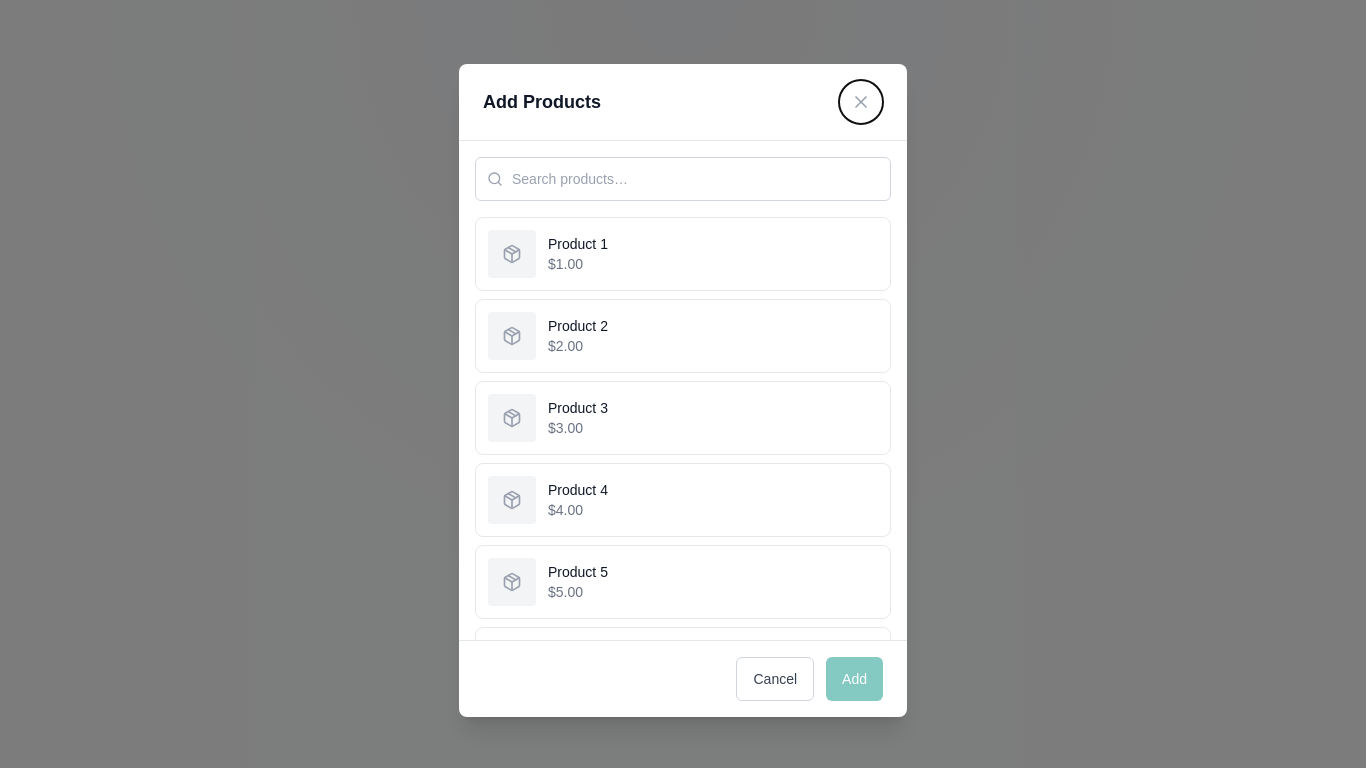
AddProductToGroupModal › should keep selections sticky even when filtered out by search
This screenshot has width=1366, height=768.
Select Product 1 (on the first page).
Step 1. Click the text "Product 1" → (578, 244), box left=548, top=236, right=608, bottom=252
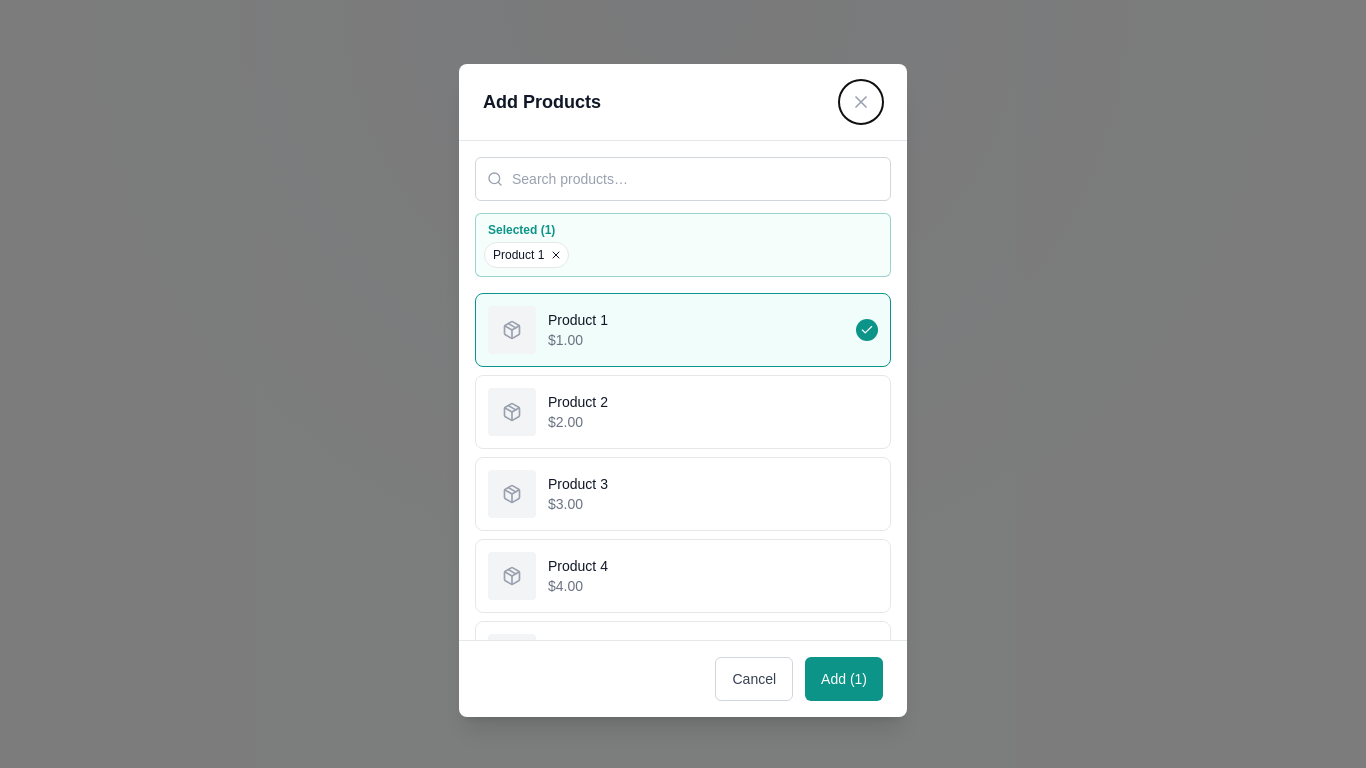
Result: the button "Add (1)" is shown at left=805, top=657, right=883, bottom=701
Search for "15" — server returns only Product 15, hiding Product 1 from the results list.
Step 2. Type "15" into the search field labelled "Search products" → (683, 179), box left=475, top=157, right=891, bottom=201
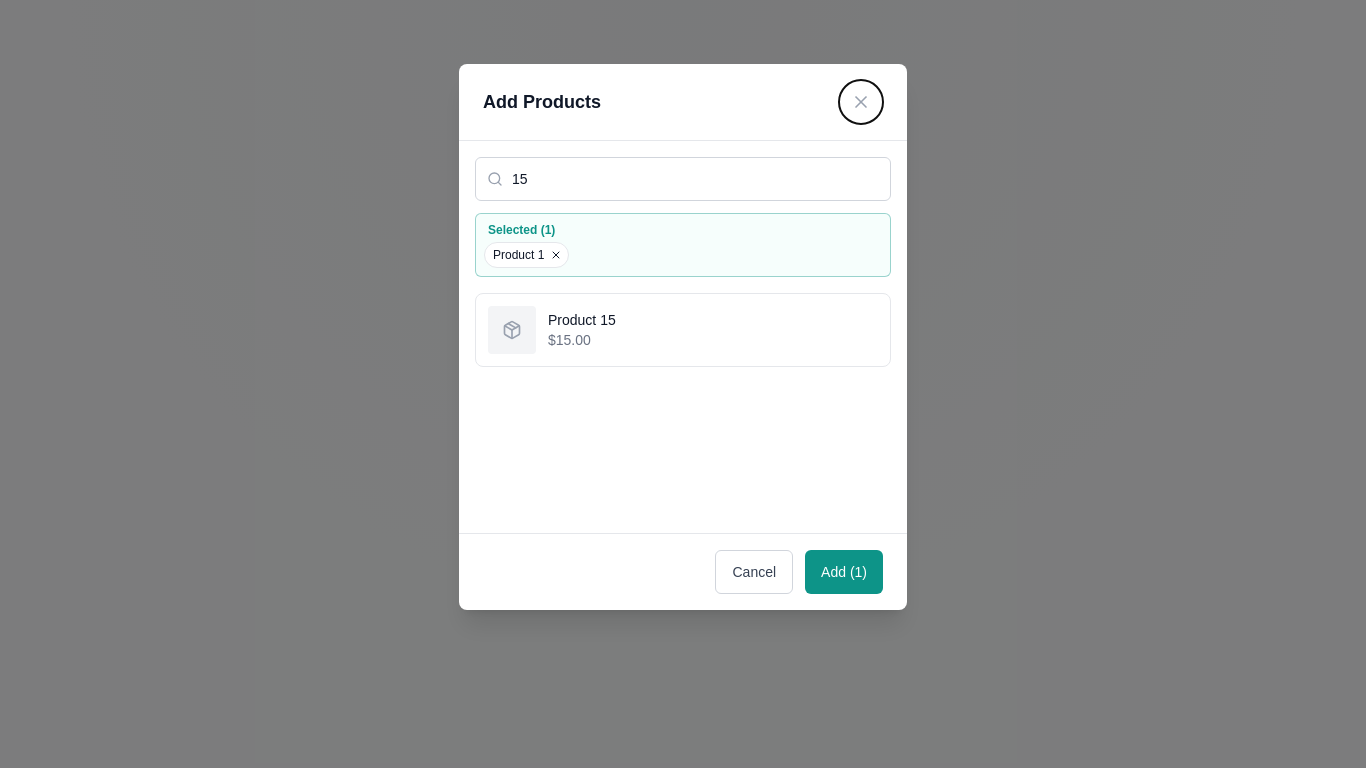
Result: the text "Product 1" is shown at left=493, top=247, right=544, bottom=263
Result: the button "Add (1)" is shown at left=805, top=550, right=883, bottom=594
Result: the text "Product 15" is shown at left=548, top=312, right=616, bottom=328
